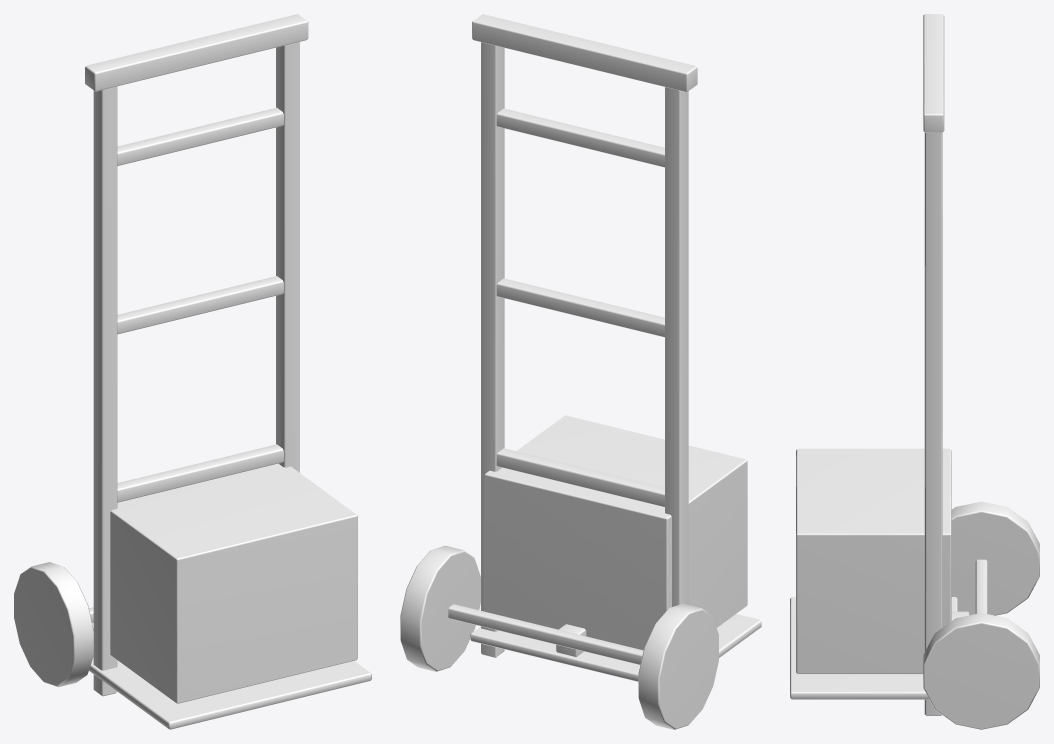
Rendered from hand_trolley.glb.
3 views of the same model, side by side, from view 1: azimuth 30°, elevation 25°; view 2: azimuth 150°, elevation 25°; view 3: azimuth 270°, elevation 25° (orthographic). The views are drawn at different scales.
Parts seen in each view (by area): view 1: HandTrolley; view 2: HandTrolley; view 3: HandTrolley.
Part boxes in pixels (x1,y1,x2,y2): HandTrolley: [14, 14, 371, 729]; HandTrolley: [400, 14, 761, 729]; HandTrolley: [790, 14, 1039, 729].
Bounding box in the file's own units: 0.48 × 1.12 × 0.4175.
1 material, 1 textured.
